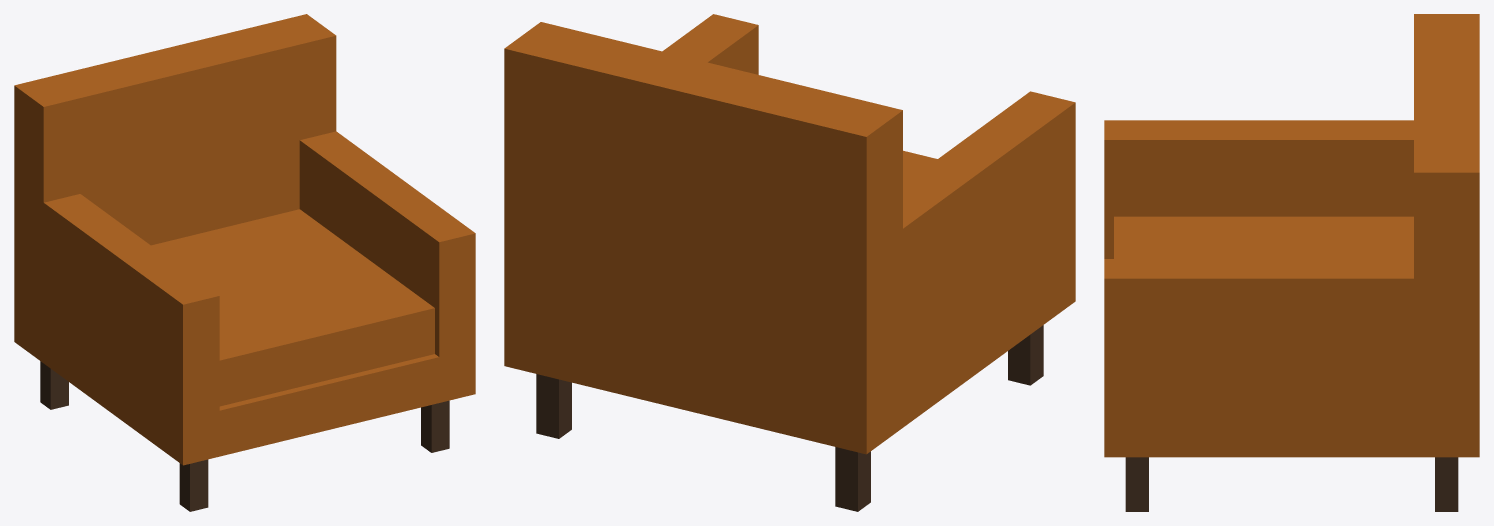
Rendered from sessel.glb.
The picture shows the model from 3 angles, left to right: view 1: azimuth 30°, elevation 25°; view 2: azimuth 150°, elevation 25°; view 3: azimuth 270°, elevation 25°; orthographic projection. The views are drawn at different scales.
Bounding box in the file's own units: 0.8 × 0.82 × 0.8.
